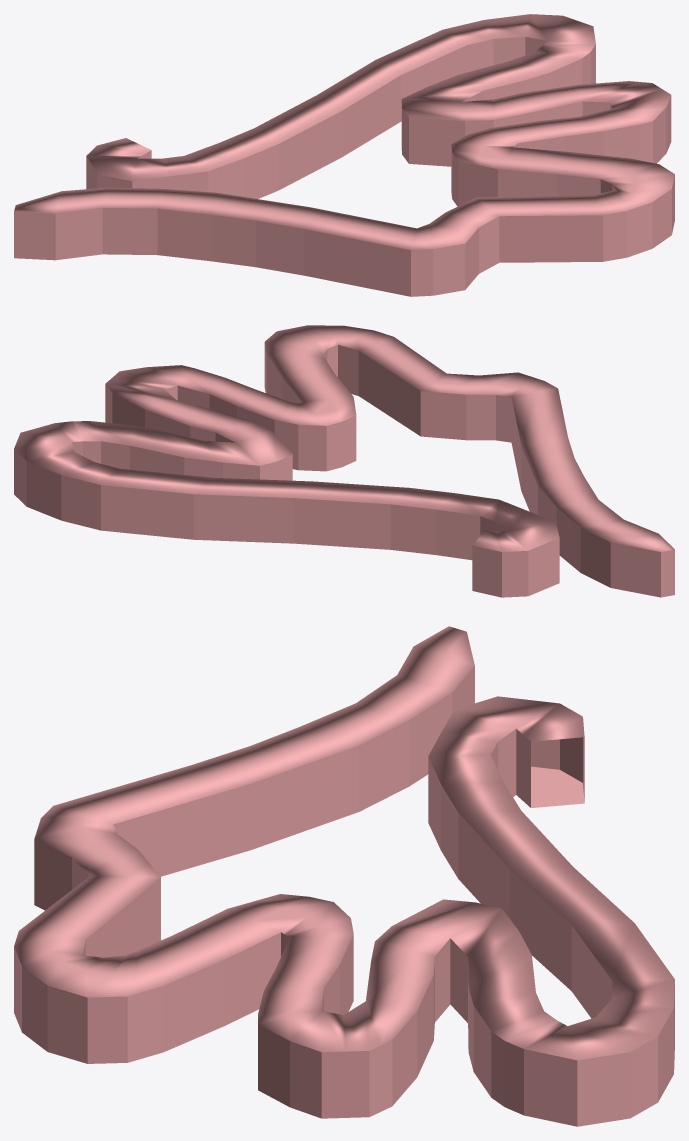
Rendered from smallIntestine.glb.
3 renders of one model, top to bottom at view 1: azimuth 30°, elevation 25°; view 2: azimuth 150°, elevation 25°; view 3: azimuth 270°, elevation 25°, orthographic. The views are drawn at different scales.
Parts seen in each view (by area): view 1: smallIntestine; view 2: smallIntestine; view 3: smallIntestine.
Part boxes in pixels (<box>): smallIntestine: <box>14,14,674,296</box>; smallIntestine: <box>14,325,674,597</box>; smallIntestine: <box>14,626,674,1126</box>.
Bounding box in the file's own units: 8.17 × 0.5826 × 5.26.
